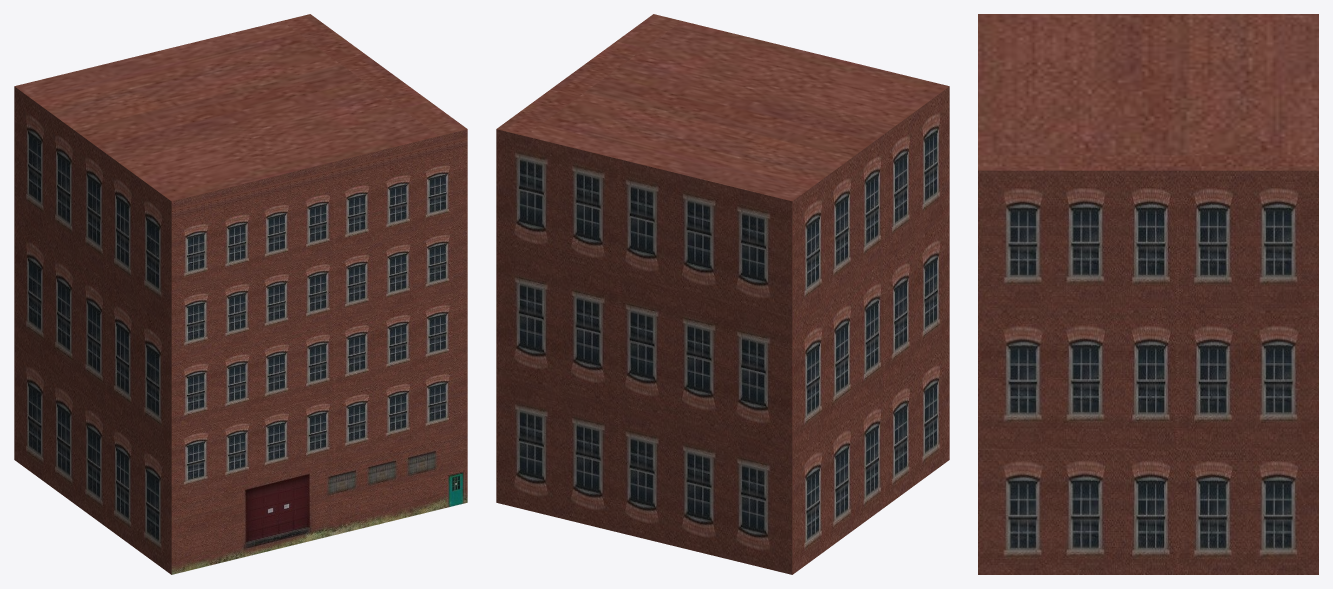
Rendered from 1 Free Red Building.fbx.
The picture shows the model from 3 angles, left to right: view 1: azimuth 30°, elevation 25°; view 2: azimuth 150°, elevation 25°; view 3: azimuth 270°, elevation 25°; orthographic projection. The views are drawn at different scales.
Parts seen in each view (by area): view 1: pCube3; view 2: pCube3; view 3: pCube3.
Part boxes in pixels (<box>): pCube3: <box>14,14,467,574</box>; pCube3: <box>496,14,949,574</box>; pCube3: <box>978,14,1318,574</box>.
Size of the model in its own units: 59.86 by 72.15 by 55.08.
1 material, 1 textured.
